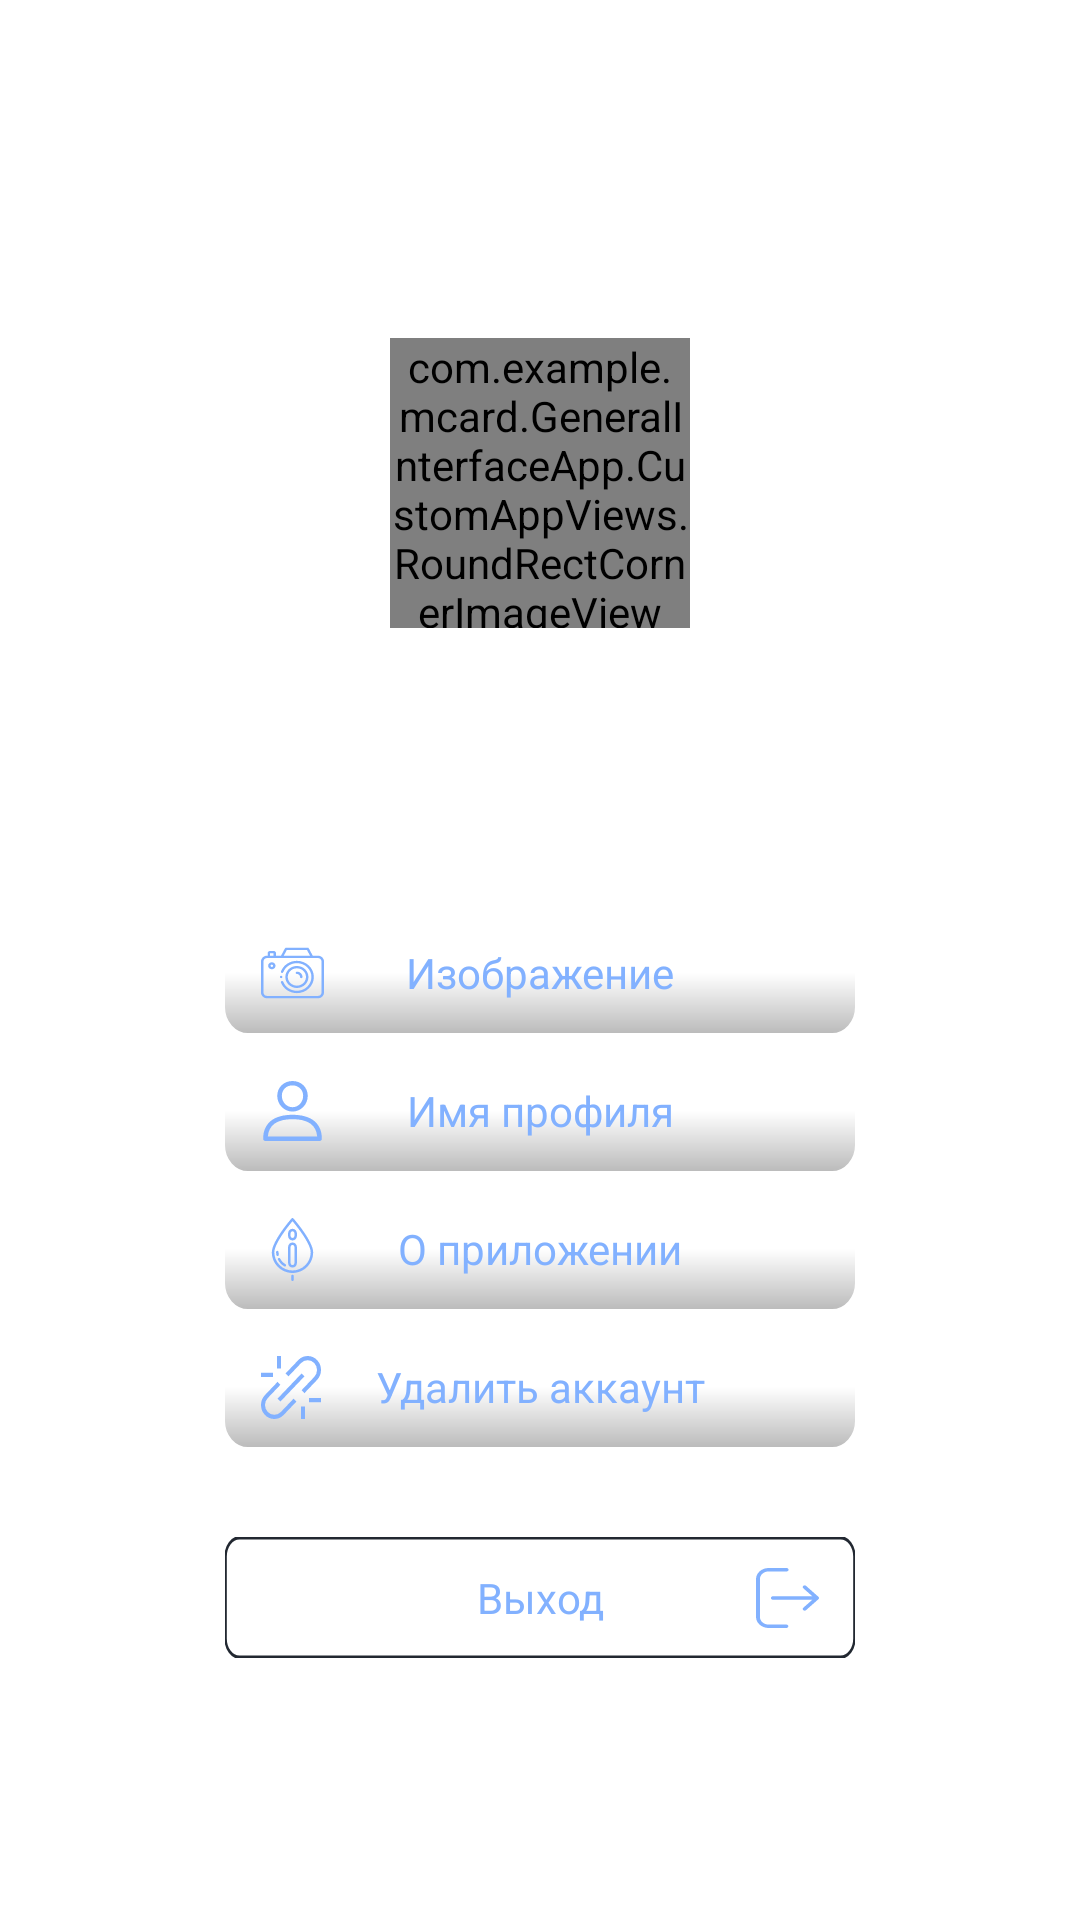

Where to tap for icons on this 1080x1920 app screen, as point (x, y):
camera: point (292, 990)
design info: point (292, 1263)
design remove: point (291, 1401)
exit account: point (787, 1597)
global singlecard profile: point (292, 1126)
